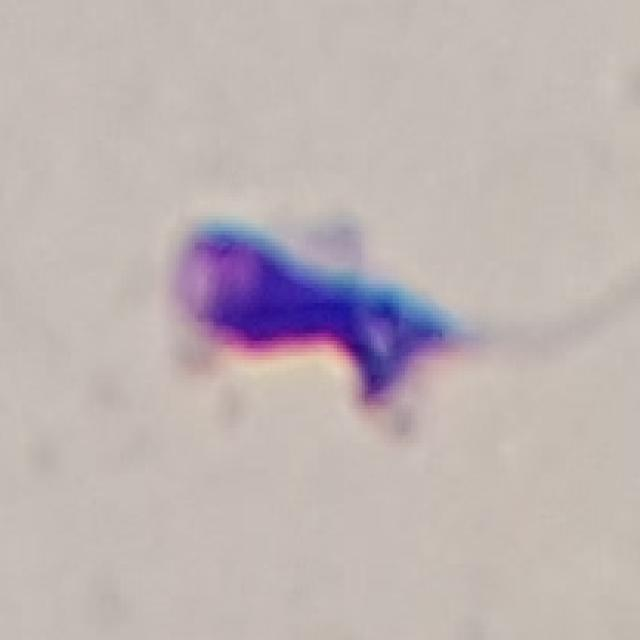abnormal sperm: (169, 221, 610, 412)
